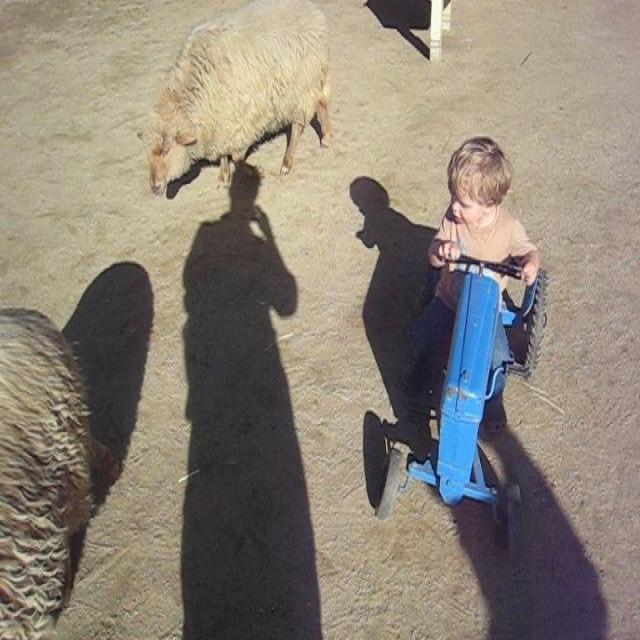Sheep: (139, 5, 336, 192), (0, 305, 102, 639)
